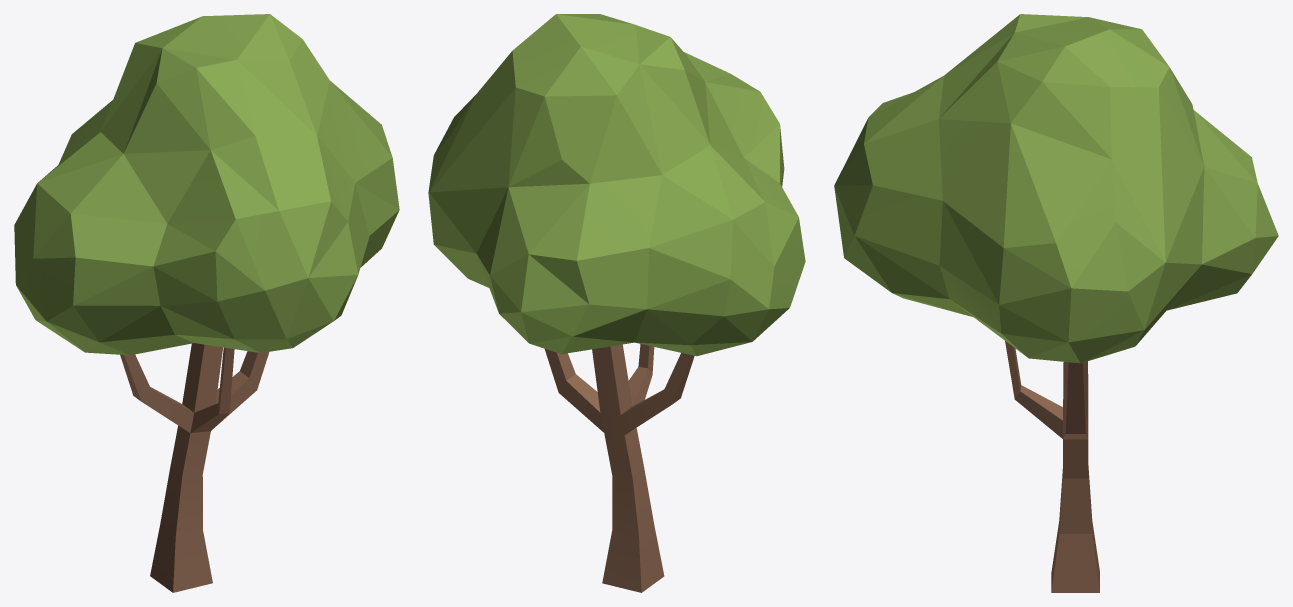
The model's file is deciduous_tree_14.fbx.
3 views of the same model, side by side, from view 1: azimuth 30°, elevation 25°; view 2: azimuth 150°, elevation 25°; view 3: azimuth 270°, elevation 25° (orthographic). The views are drawn at different scales.
Parts seen in each view (by area): view 1: deciduous_tree_14; view 2: deciduous_tree_14; view 3: deciduous_tree_14.
Part boxes in pixels (x1,y1,x2,y2): deciduous_tree_14: (14, 14, 399, 592); deciduous_tree_14: (428, 14, 805, 592); deciduous_tree_14: (834, 14, 1278, 592).
Size of the model in its own units: 446 by 658 by 458.
